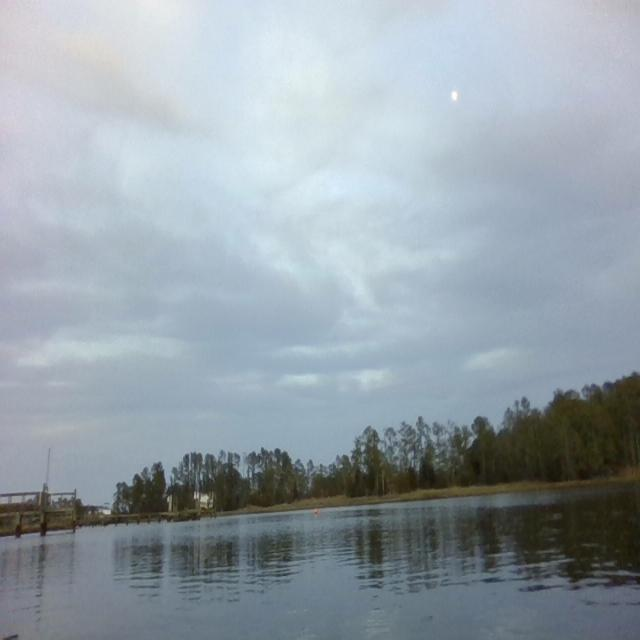Buoy: (313, 504, 321, 514)
